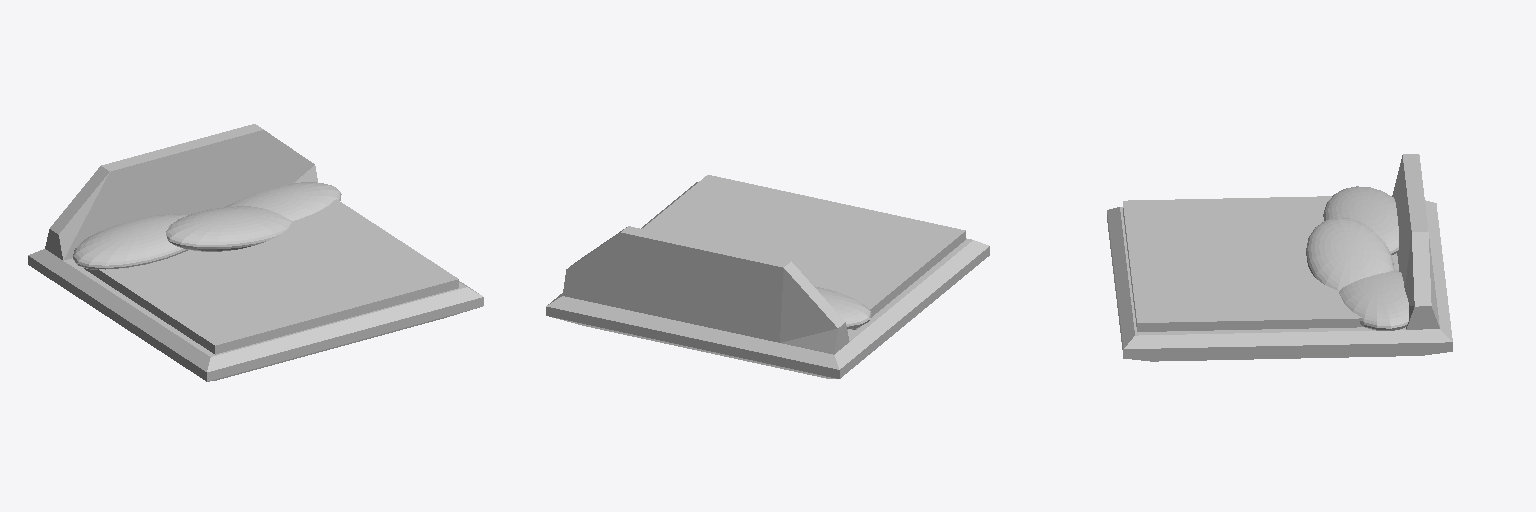
Rendered from bed.obj.
3 renders of one model, left to right at view 1: azimuth 30°, elevation 25°; view 2: azimuth 150°, elevation 25°; view 3: azimuth 270°, elevation 25°, orthographic.
Bounding box in the file's own units: 229 × 88.03 × 229.